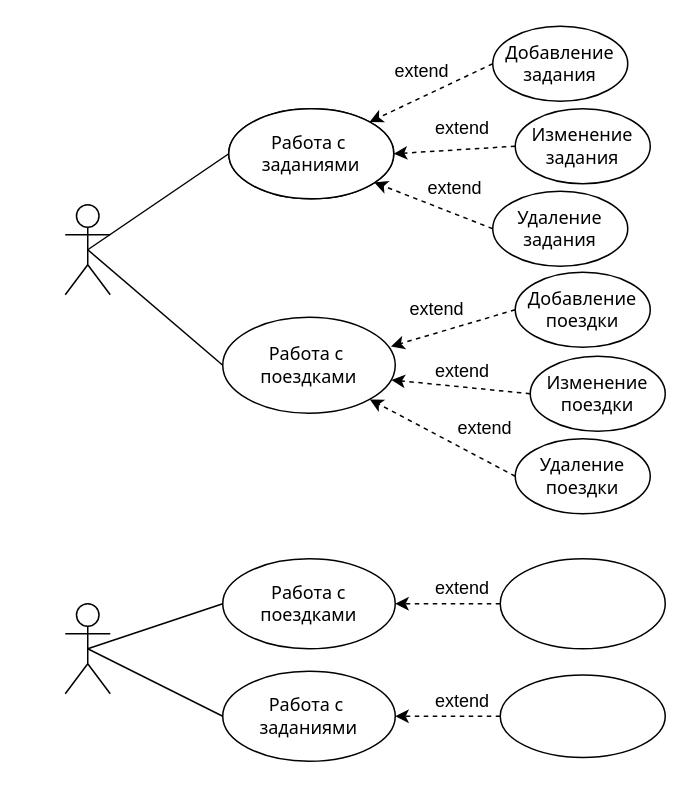
The diagram is 692 pixels wide and 788 high, and some of its shapes have lost their labels. The box of each missing label's shape, as (x1, y1, x2, y2) in pixels:
Пользователь: (64, 602, 110, 694)
Просмотр журнала выездов: (499, 557, 665, 649)
Просмотр незавершённых заданий: (499, 674, 665, 758)
Руководитель: (64, 203, 110, 295)
